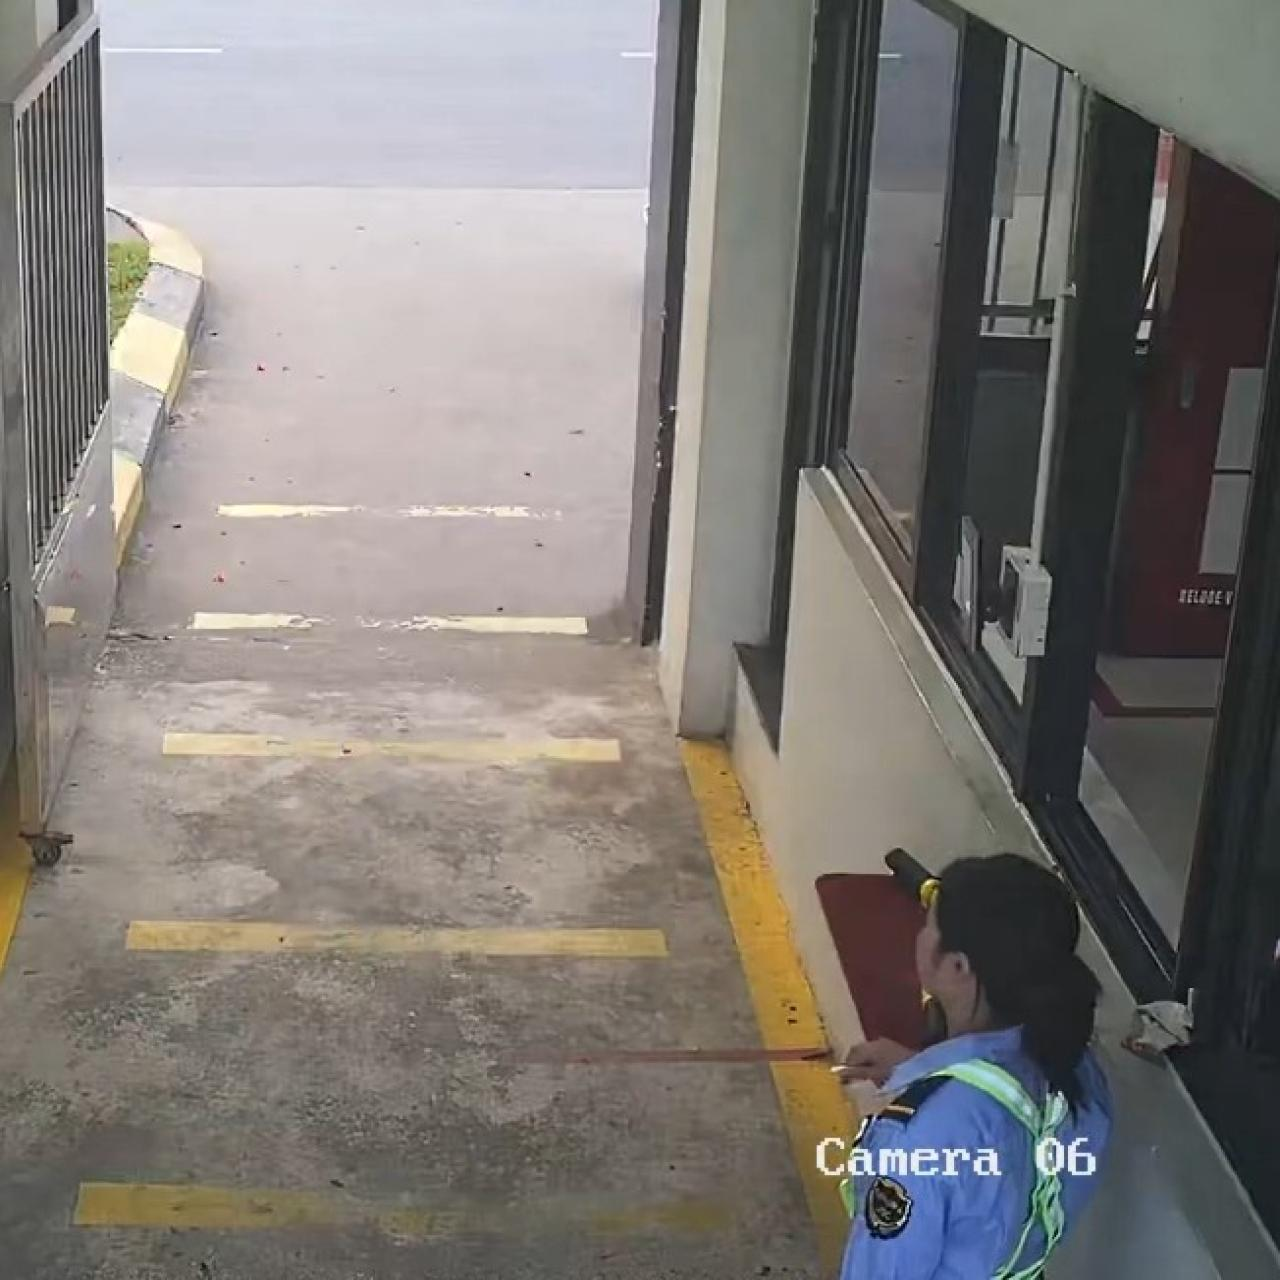guard: (826, 847, 1117, 1276)
